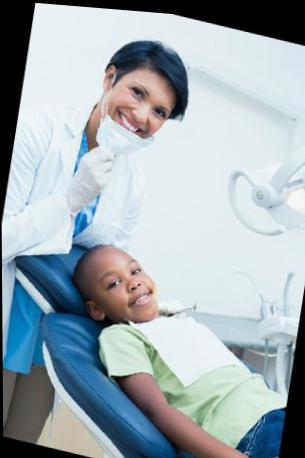NONE: (98, 256, 167, 321)
WRONG: (94, 69, 172, 155)
